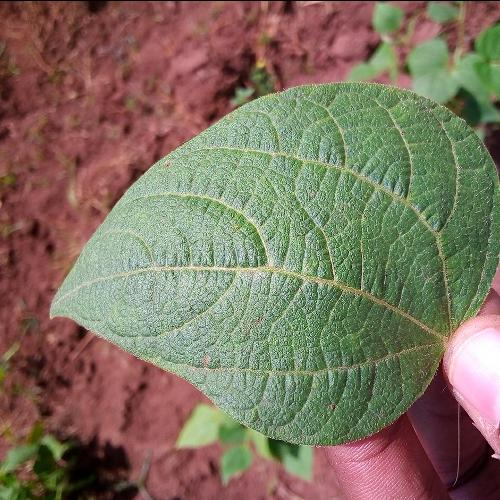sehat: (166, 100, 456, 406)
